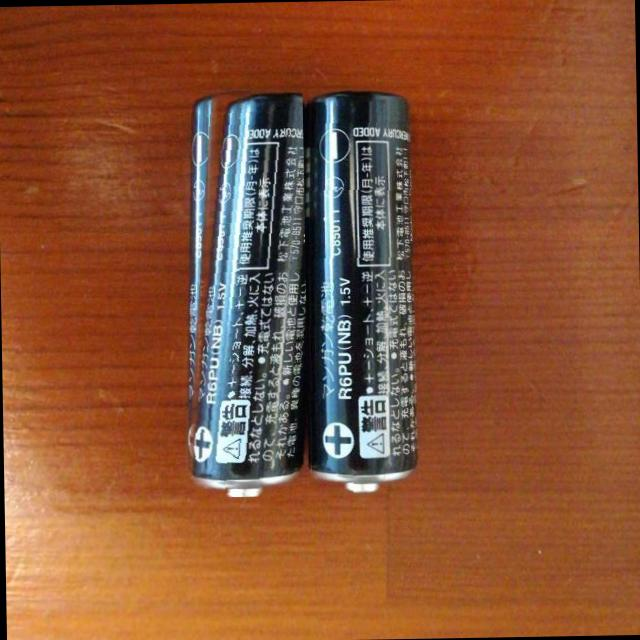Hazard: (176, 86, 308, 496), (292, 88, 420, 494)
